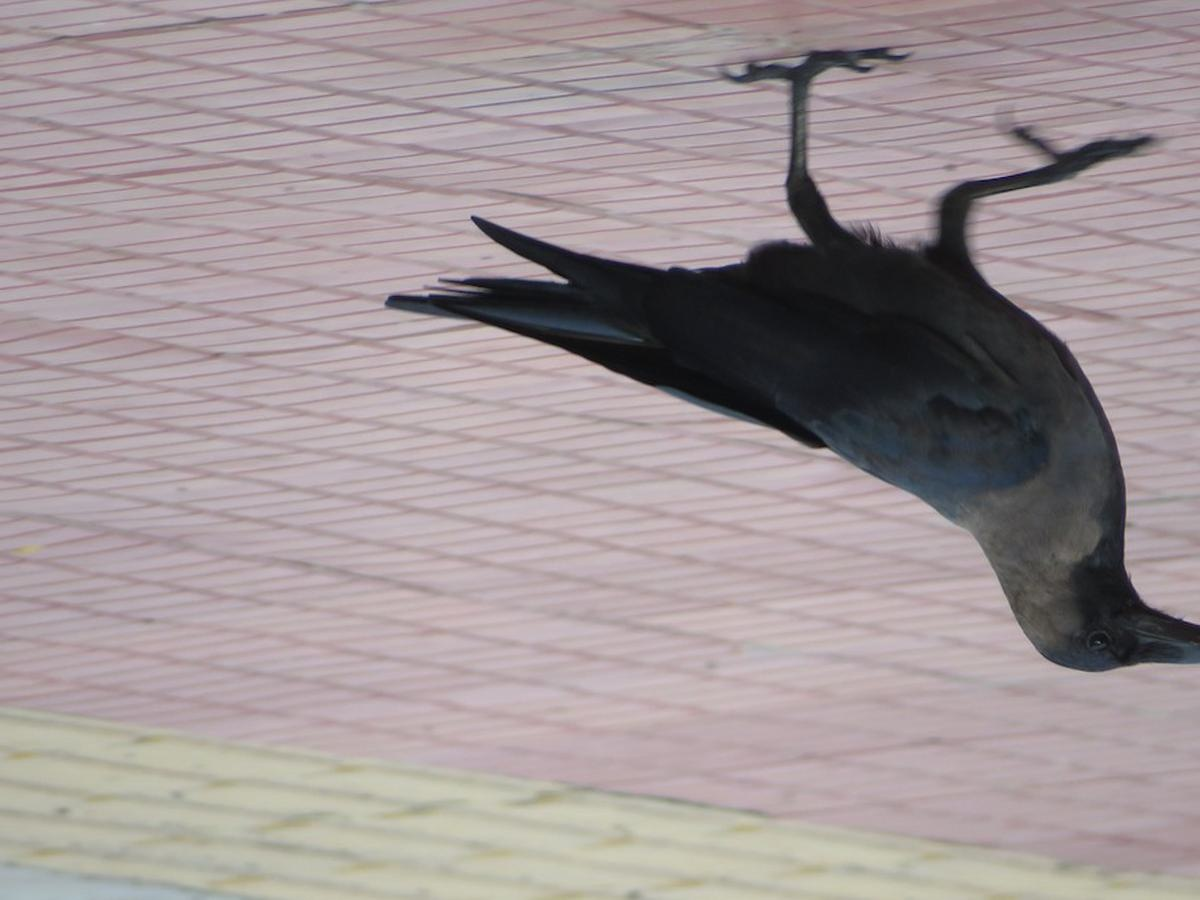crow: (399, 43, 1200, 724)
